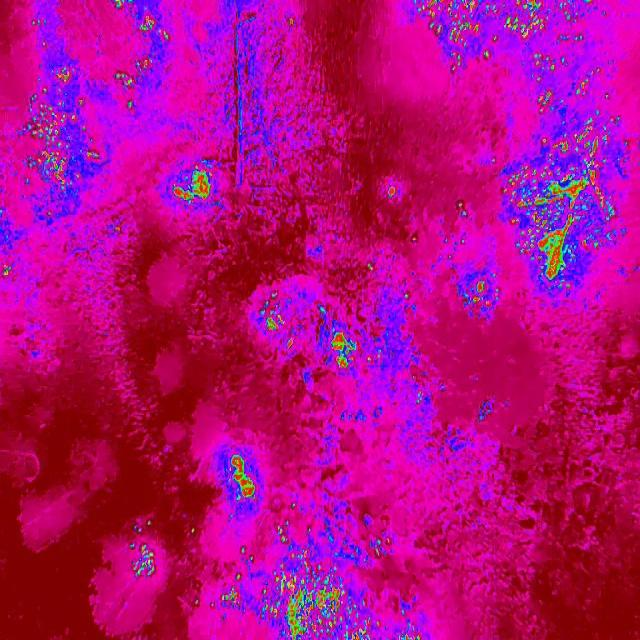fire: (190, 501, 422, 640), (508, 134, 618, 288), (416, 0, 592, 68), (24, 61, 90, 192), (382, 178, 476, 264), (111, 0, 167, 110), (536, 67, 622, 134), (124, 516, 158, 580), (170, 160, 212, 208), (227, 450, 260, 505), (462, 270, 498, 310), (260, 292, 288, 332), (329, 331, 355, 368)
